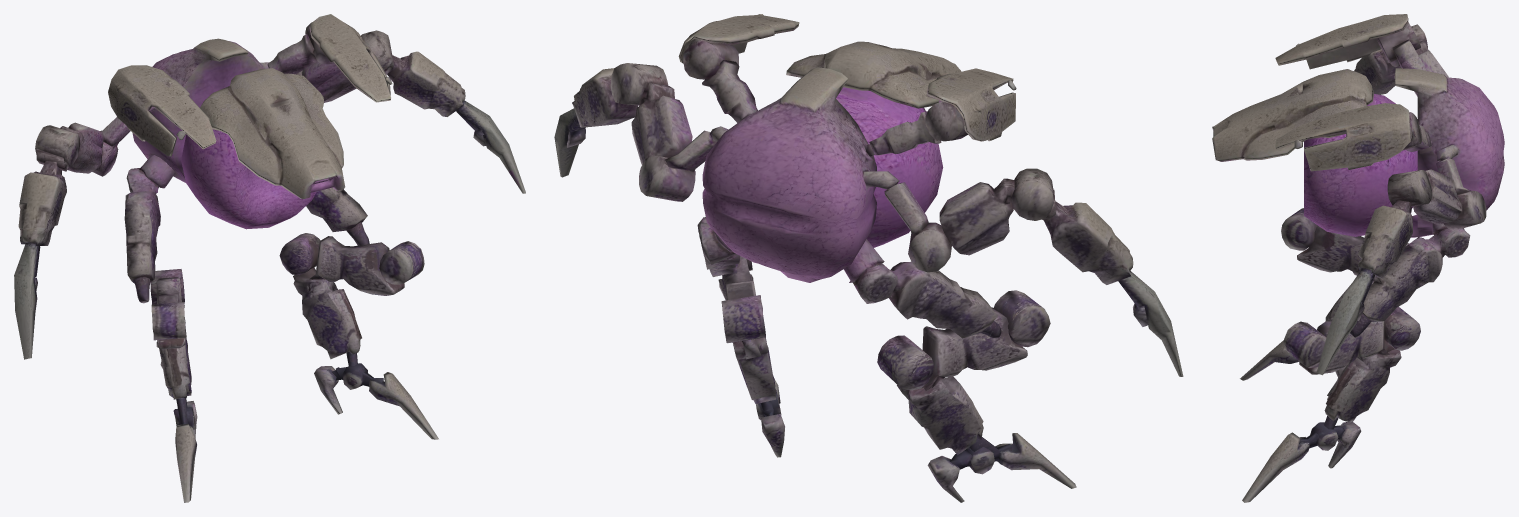
The model's file is selected.glb.
3 renders of one model, left to right at view 1: azimuth 30°, elevation 25°; view 2: azimuth 150°, elevation 25°; view 3: azimuth 270°, elevation 25°, orthographic. The views are drawn at different scales.
Parts seen in each view (by area): view 1: tripo_node_1a2badc5-a862-40e0-9e90-b96a508b2314; view 2: tripo_node_1a2badc5-a862-40e0-9e90-b96a508b2314; view 3: tripo_node_1a2badc5-a862-40e0-9e90-b96a508b2314.
Boxes of the visible parts, x1,y1,x2,y2 form: tripo_node_1a2badc5-a862-40e0-9e90-b96a508b2314: [14, 14, 525, 502]; tripo_node_1a2badc5-a862-40e0-9e90-b96a508b2314: [554, 14, 1183, 502]; tripo_node_1a2badc5-a862-40e0-9e90-b96a508b2314: [1212, 14, 1504, 502].
Bounding box in the file's own units: 0.998 × 0.7051 × 0.498.
1 material, 1 textured.
